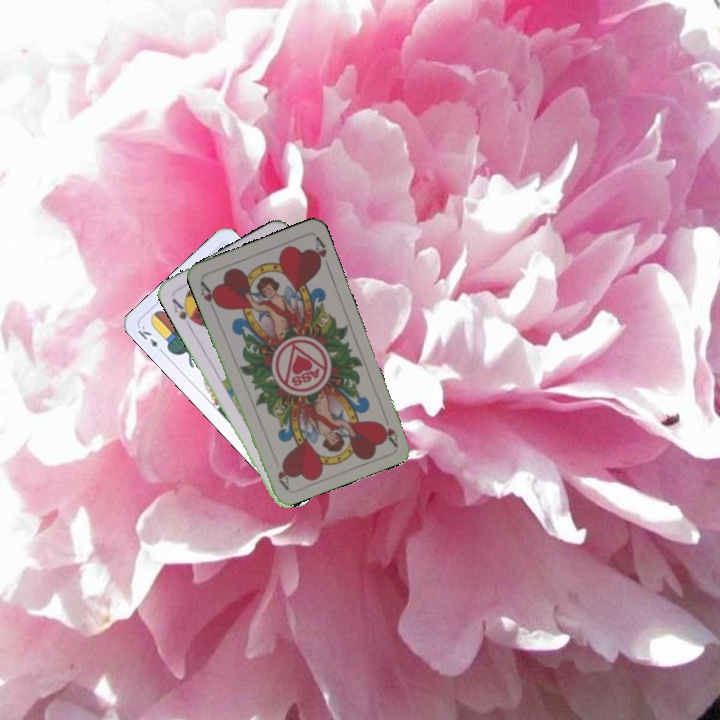EK: (133, 321, 167, 356)
HA: (196, 277, 223, 315), (375, 409, 400, 448)
SA: (168, 294, 198, 330)
